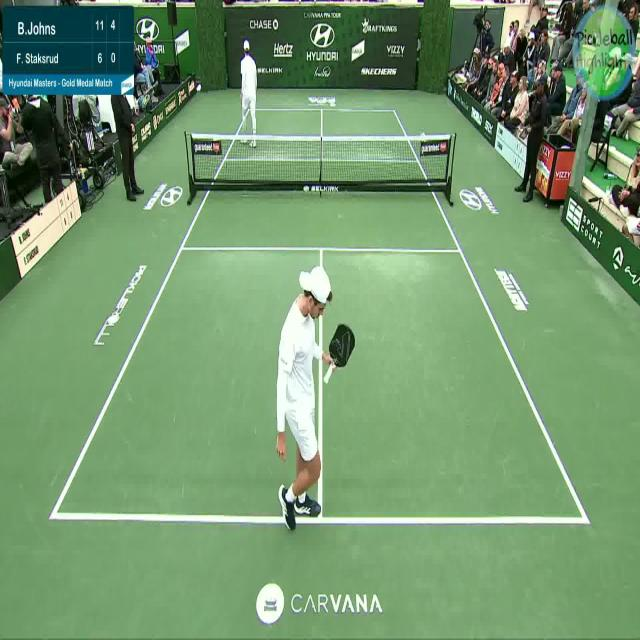Court: (52, 108, 590, 523)
